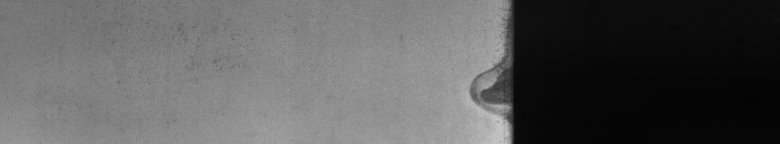hb: (463, 53, 500, 123)
